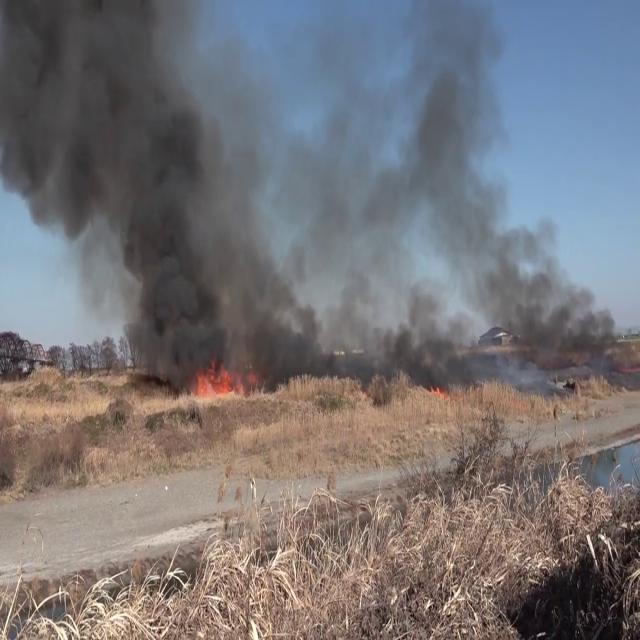Fire: (188, 350, 248, 403)
Smoke: (258, 1, 630, 378), (0, 0, 275, 377)
